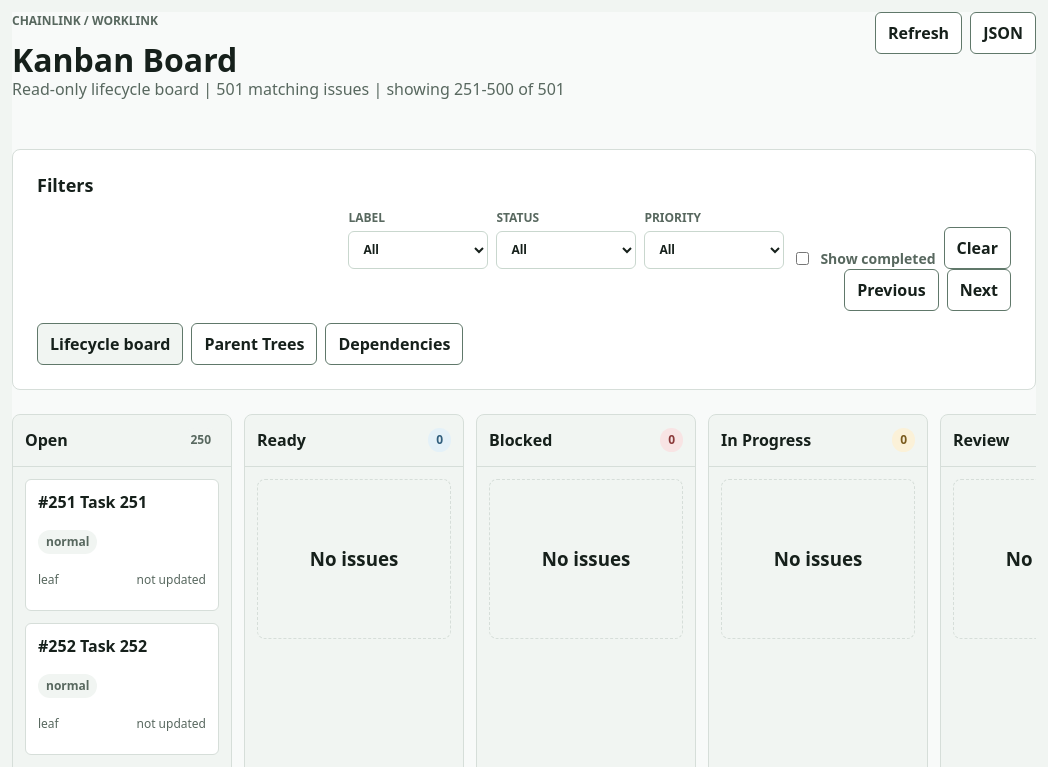
Scenario: ChainlinkBoardRoute queries › queries the global Label filter and resets the page
The image size is (1048, 767).
Expected: the text "showing 251-500" is shown, [199, 78, 565, 100]
Select "late & rare" in the dropdown labelled "Label": (418, 250) [348, 231, 488, 269]
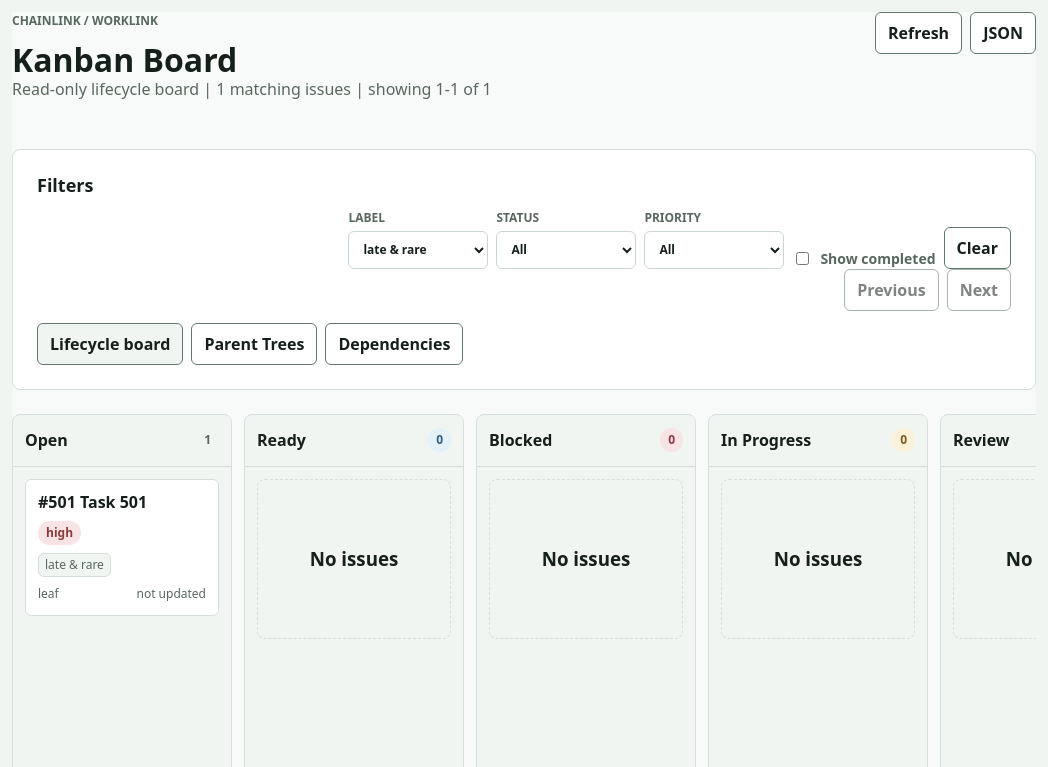
Expected: the text "1 matching issues | showing 1-1 of 1" is shown, [199, 78, 492, 100]
